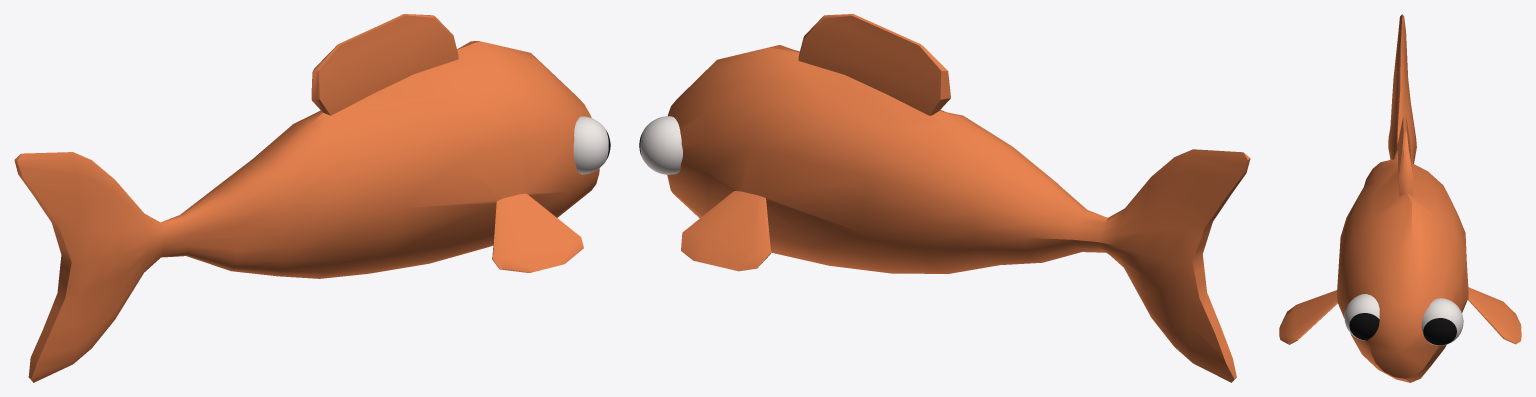
Rendered from fish2.glb.
3 renders of one model, left to right at view 1: azimuth 30°, elevation 25°; view 2: azimuth 150°, elevation 25°; view 3: azimuth 270°, elevation 25°, orthographic. The views are drawn at different scales.
Visible parts, largest first — view 1: fish low poly, 구체.001; view 2: fish low poly, 구체; view 3: fish low poly, 구체, 구체.001.
Part boxes in pixels (<box>): fish low poly: <box>14,14,599,382</box>; 구체.001: <box>573,116,610,174</box>; fish low poly: <box>667,14,1250,382</box>; 구체: <box>639,116,682,174</box>; fish low poly: <box>1279,14,1521,382</box>; 구체: <box>1421,298,1463,345</box>; 구체.001: <box>1344,294,1379,340</box>.
Bounding box in the file's own units: 0.9319 × 0.4195 × 0.4088.
